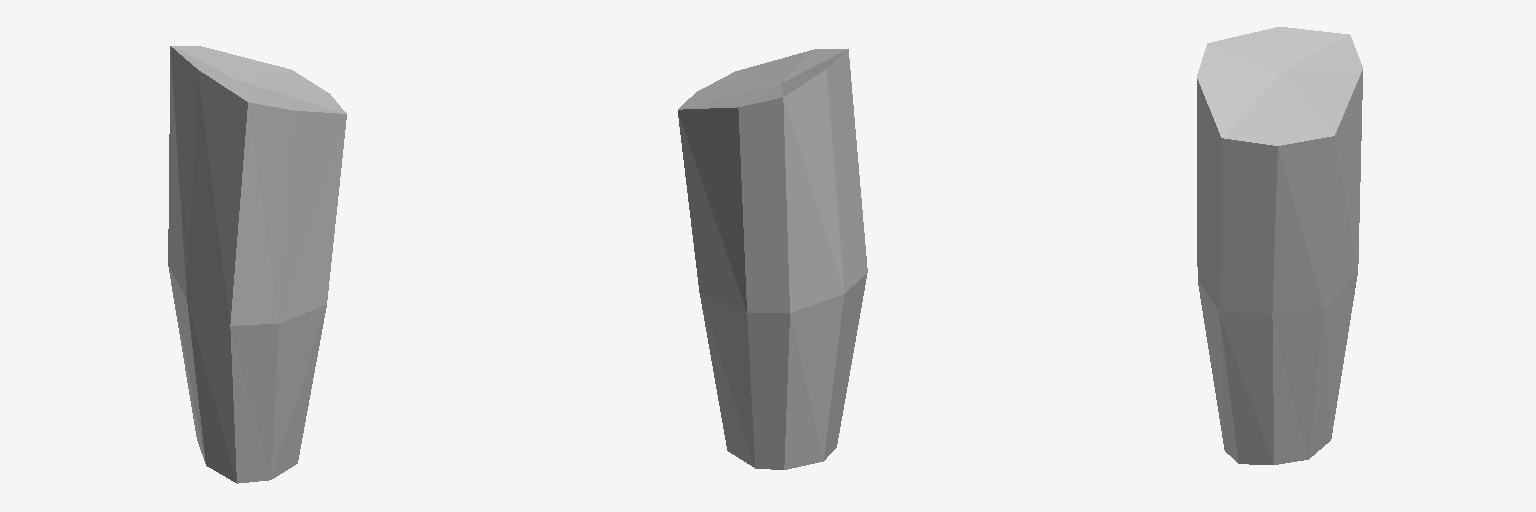
The model's file is LegR.obj.
3 renders of one model, left to right at view 1: azimuth 30°, elevation 25°; view 2: azimuth 150°, elevation 25°; view 3: azimuth 270°, elevation 25°, orthographic.
Visible parts, largest first — view 1: LegR_Cube.012; view 2: LegR_Cube.012; view 3: LegR_Cube.012.
Boxes of the visible parts, <box> form: LegR_Cube.012: <box>168,46,346,483</box>; LegR_Cube.012: <box>678,49,867,469</box>; LegR_Cube.012: <box>1197,27,1362,464</box>.
Size of the model in its own units: 0.1803 by 0.4754 by 0.1786.